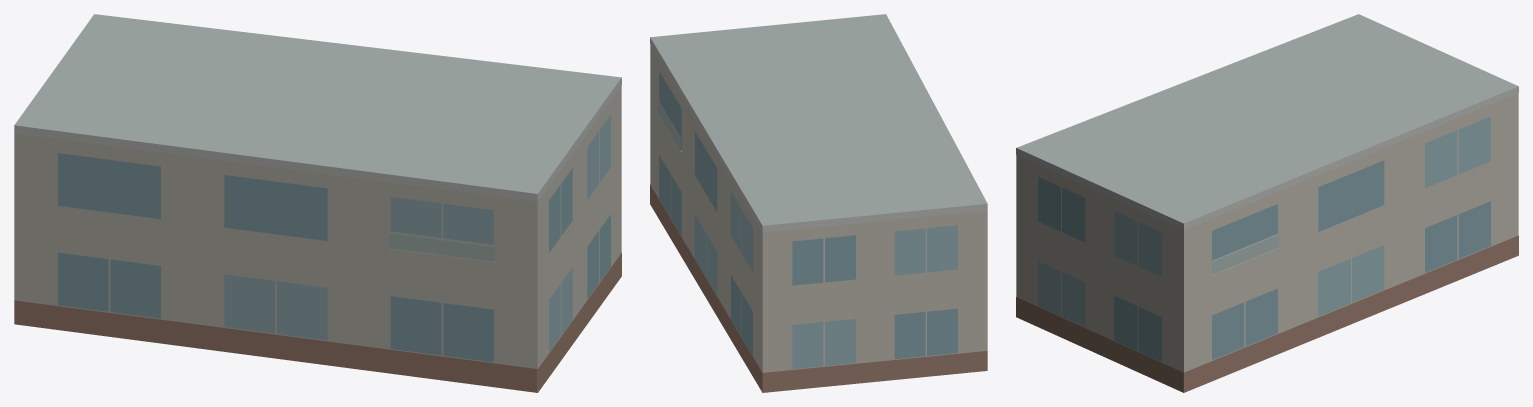
File: survey-upis-32619261.glb
3 renders of one model, left to right at view 1: azimuth 30°, elevation 25°; view 2: azimuth 150°, elevation 25°; view 3: azimuth 270°, elevation 25°, orthographic. The views are drawn at different scales.
Visible parts, largest first — view 1: survey-upis-32619261.tmp; view 2: survey-upis-32619261.tmp; view 3: survey-upis-32619261.tmp.
Part boxes in pixels (x1,y1,x2,y2): survey-upis-32619261.tmp: (14, 14, 621, 392); survey-upis-32619261.tmp: (650, 14, 987, 392); survey-upis-32619261.tmp: (1016, 14, 1518, 392).
Size of the model in its own units: 16.21 by 6.1 by 16.42.
